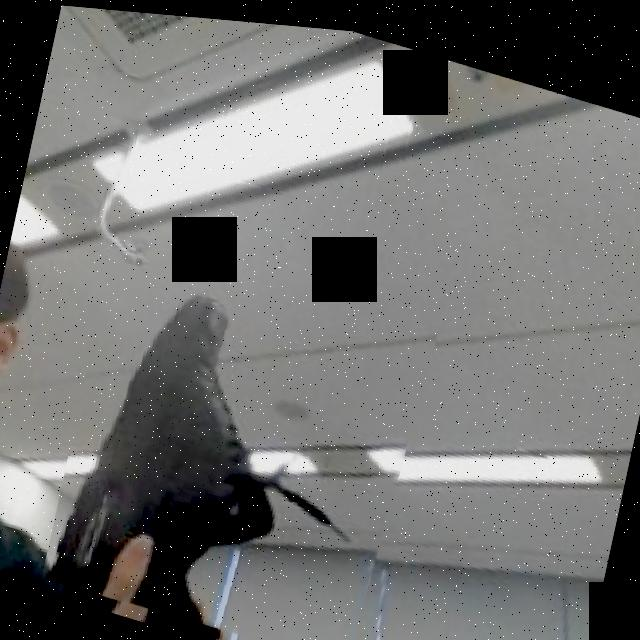shoe: (40, 222, 439, 640)
